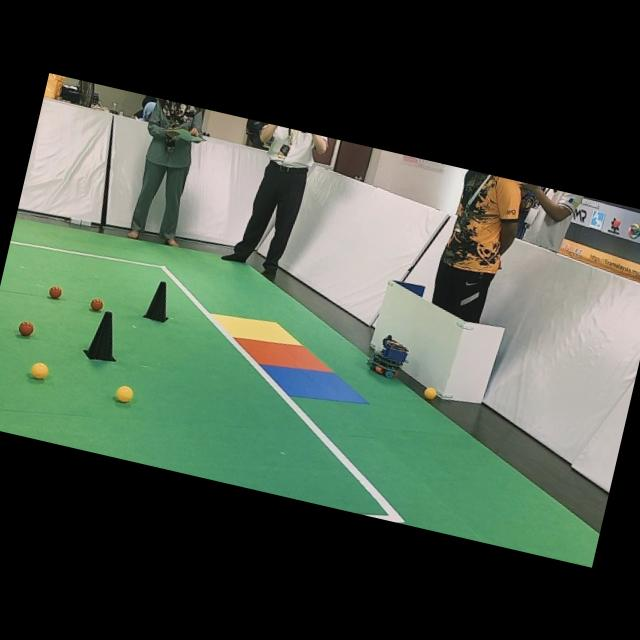ball: (115, 385, 133, 402), (30, 362, 48, 379), (18, 321, 34, 336), (48, 285, 62, 298), (90, 298, 103, 311), (423, 386, 436, 399)
goal: (261, 365, 368, 404), (235, 337, 331, 372), (212, 314, 301, 346)
